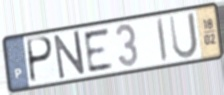3: (114, 22, 140, 71)
E: (82, 26, 116, 75)
I: (155, 16, 169, 64)
N: (52, 29, 87, 82)
P: (27, 36, 55, 86)
U: (167, 11, 200, 61)
